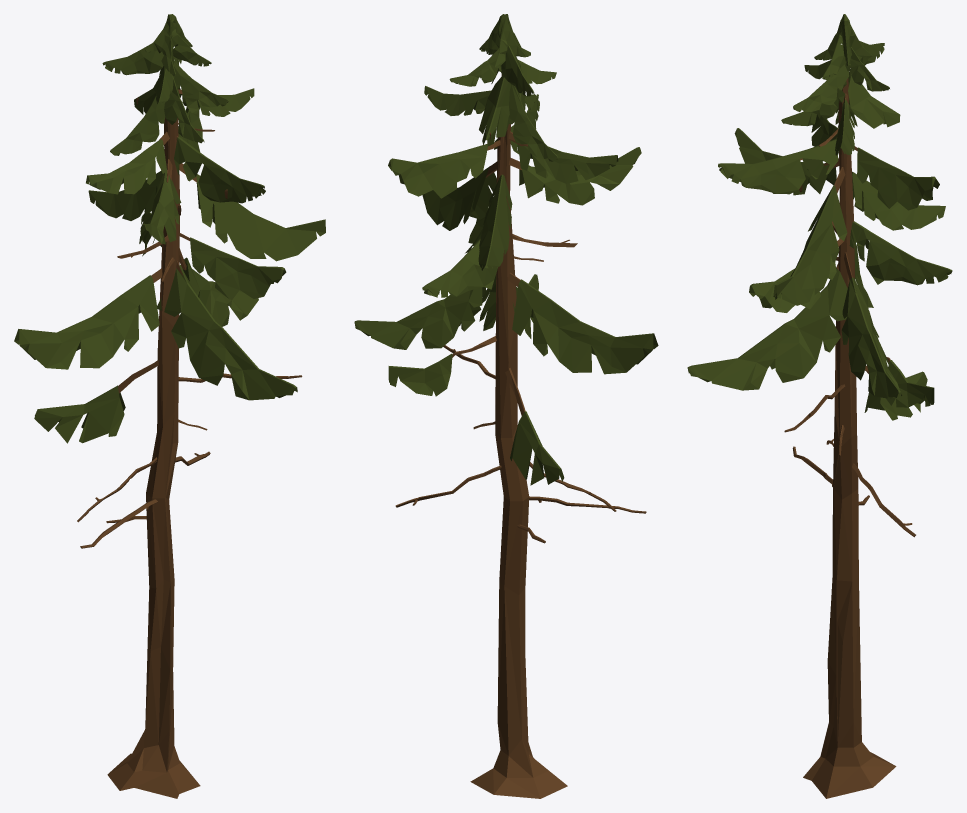
The model's file is SM_Tree_Spruce_Mature_A.fbx.
3 views of the same model, side by side, from view 1: azimuth 30°, elevation 25°; view 2: azimuth 150°, elevation 25°; view 3: azimuth 270°, elevation 25° (orthographic).
Parts seen in each view (by area): view 1: tree-spruce-mature-a; view 2: tree-spruce-mature-a; view 3: tree-spruce-mature-a.
Boxes of the visible parts, x1=… form: tree-spruce-mature-a: x1=14, y1=14, x2=325, y2=798; tree-spruce-mature-a: x1=354, y1=14, x2=658, y2=798; tree-spruce-mature-a: x1=687, y1=14, x2=952, y2=798.
Bounding box in the file's own units: 4.9 × 13.12 × 4.07.
